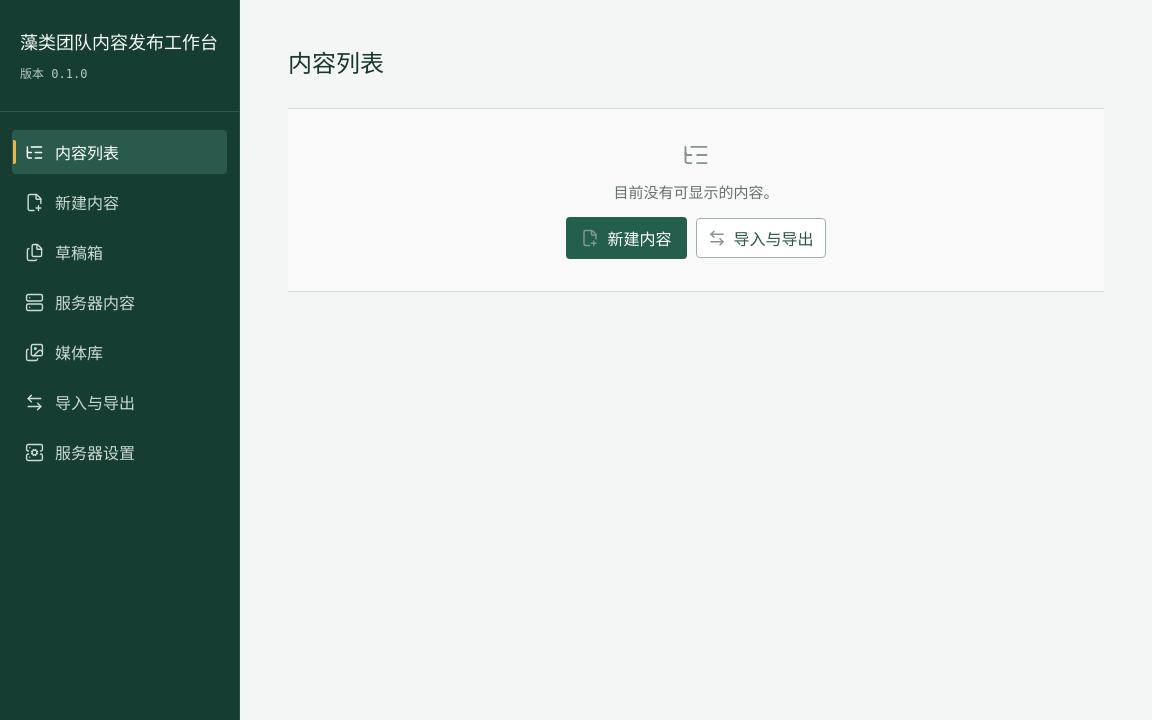
surfaces editor deletion failures without marking the server unavailable
What coordinates should you click on to do the following:
click the button "草稿箱"
I would click on:
 (120, 252)
Its box is [12, 230, 227, 274].
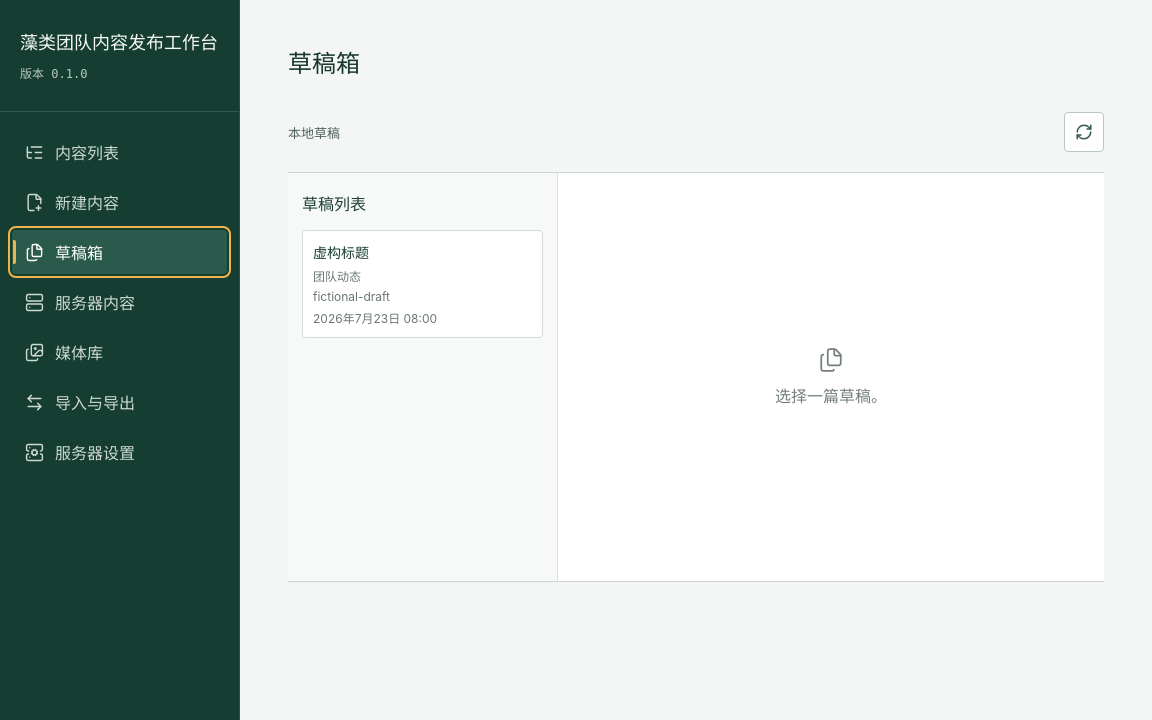
What coordinates should you click on to do the following:
click the button with aria-label "打开 虚构标题"
I would click on:
 (422, 284)
Its box is [302, 230, 543, 338].
(page scrolled)
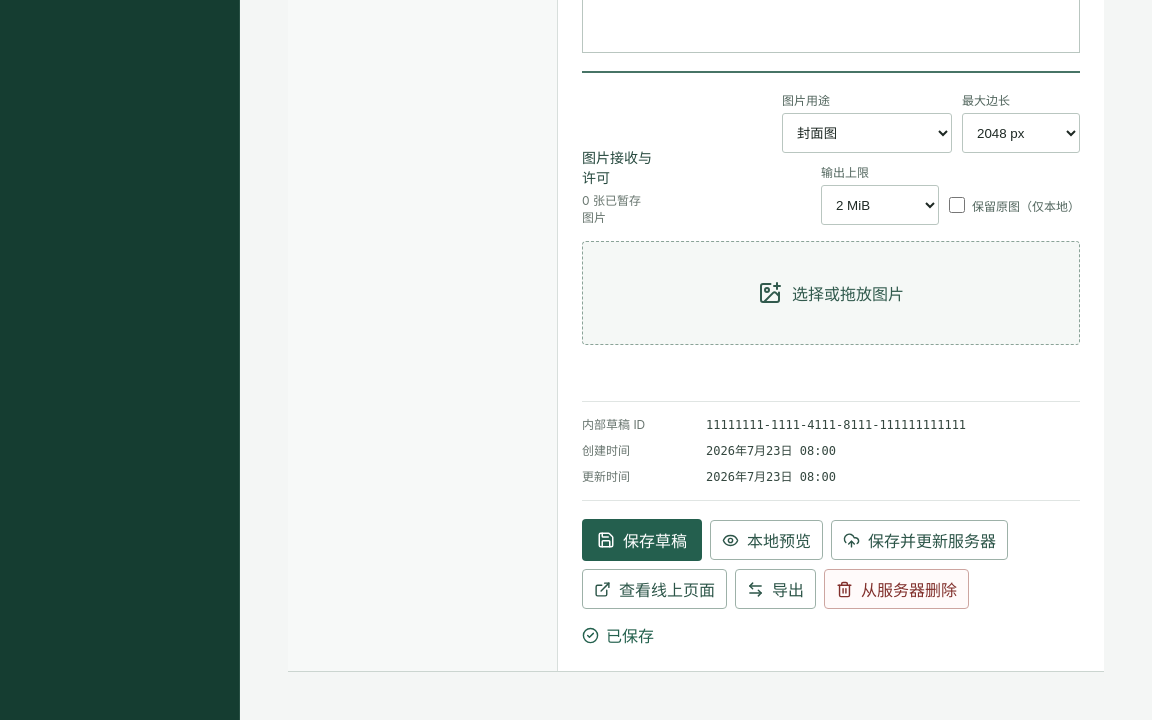
What coordinates should you click on to do the following:
click the button "从服务器删除"
I would click on:
 (896, 589)
Its box is [824, 569, 969, 609].
(page scrolled)
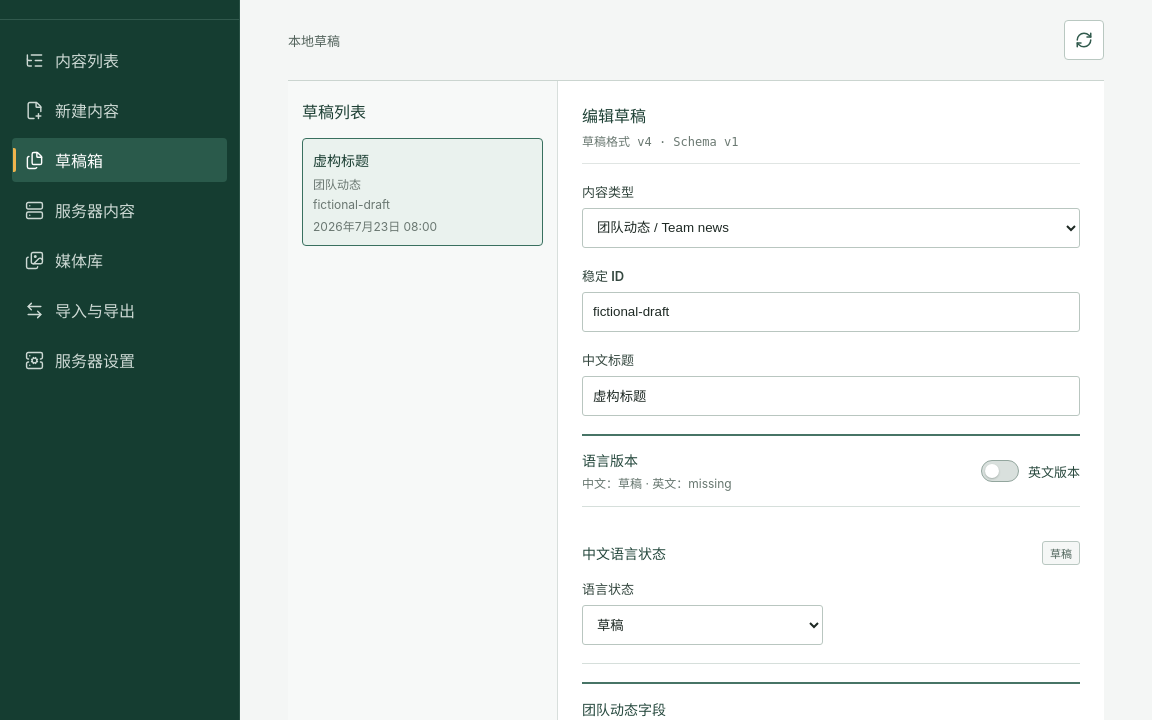
What coordinates should you click on to do the following:
click the button "服务器设置"
I would click on:
 (120, 360)
Its box is [12, 338, 227, 382].
(page scrolled)
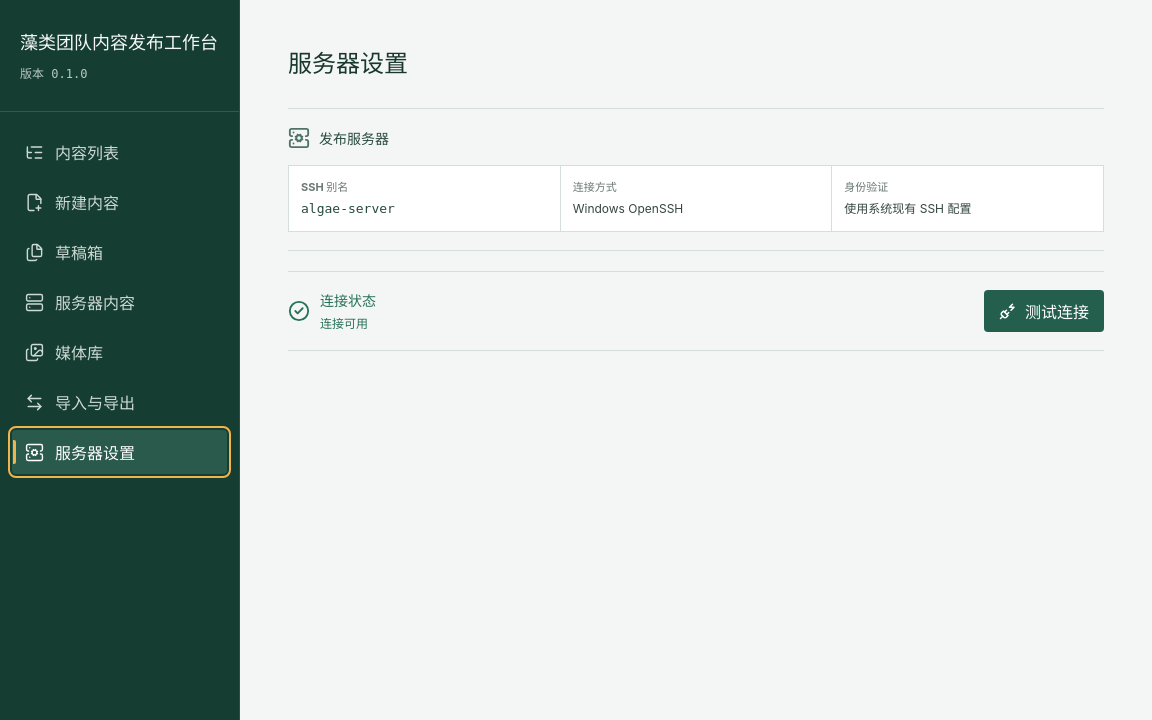
Expected: the text "连接可用" is shown, [320, 314, 376, 331]
